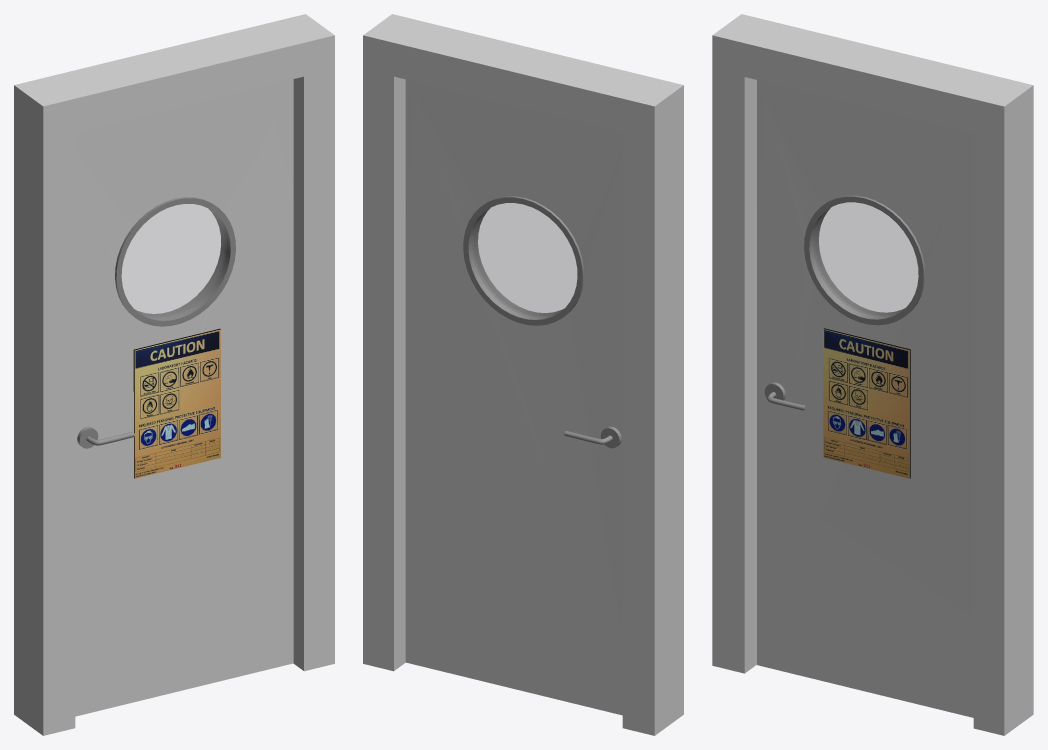
File: Door 1.FBX
The picture shows the model from 3 angles, left to right: view 1: azimuth 30°, elevation 25°; view 2: azimuth 150°, elevation 25°; view 3: azimuth 330°, elevation 25°; orthographic projection.
Parts seen in each view (by area): view 1: Door 1, door frame, Poster; view 2: Door 1, door frame; view 3: Door 1, door frame, Poster.
Part boxes in pixels (x1,y1,x2,y2): Door 1: [75, 79, 293, 716]; door frame: [14, 14, 334, 735]; Poster: [133, 328, 220, 478]; Door 1: [405, 79, 622, 715]; door frame: [363, 14, 683, 735]; Door 1: [757, 80, 973, 717]; door frame: [712, 14, 1033, 735]; Poster: [823, 328, 910, 478].
Size of the model in its own units: 40.43 by 7.02 by 83.39.
Materials: 4 (1 with a texture image).
